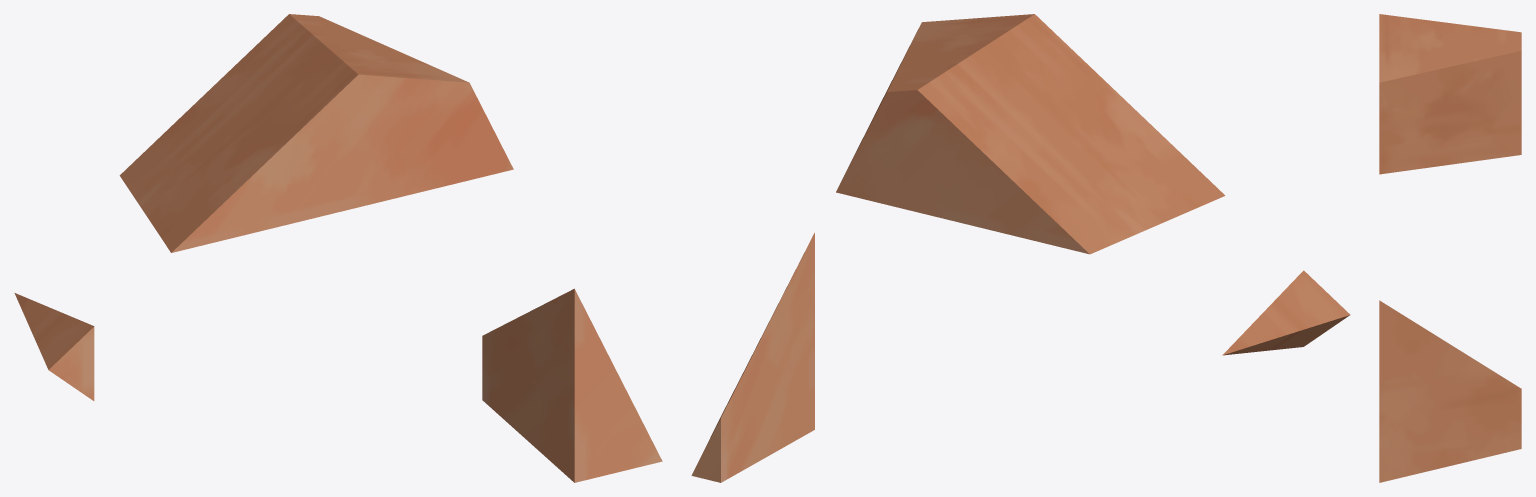
Rendered from wall_upper_window_s06.fbx.
The picture shows the model from 3 angles, left to right: view 1: azimuth 30°, elevation 25°; view 2: azimuth 150°, elevation 25°; view 3: azimuth 270°, elevation 25°; orthographic projection. The views are drawn at different scales.
Visible parts, largest first — view 1: wall_upper_window_s06; view 2: wall_upper_window_s06; view 3: wall_upper_window_s06.
Boxes of the visible parts, x1,y1,x2,y2 form: wall_upper_window_s06: (14, 14, 662, 482); wall_upper_window_s06: (691, 14, 1350, 482); wall_upper_window_s06: (1379, 14, 1521, 482).
Bounding box in the file's own units: 3.84 × 2.75 × 1.
